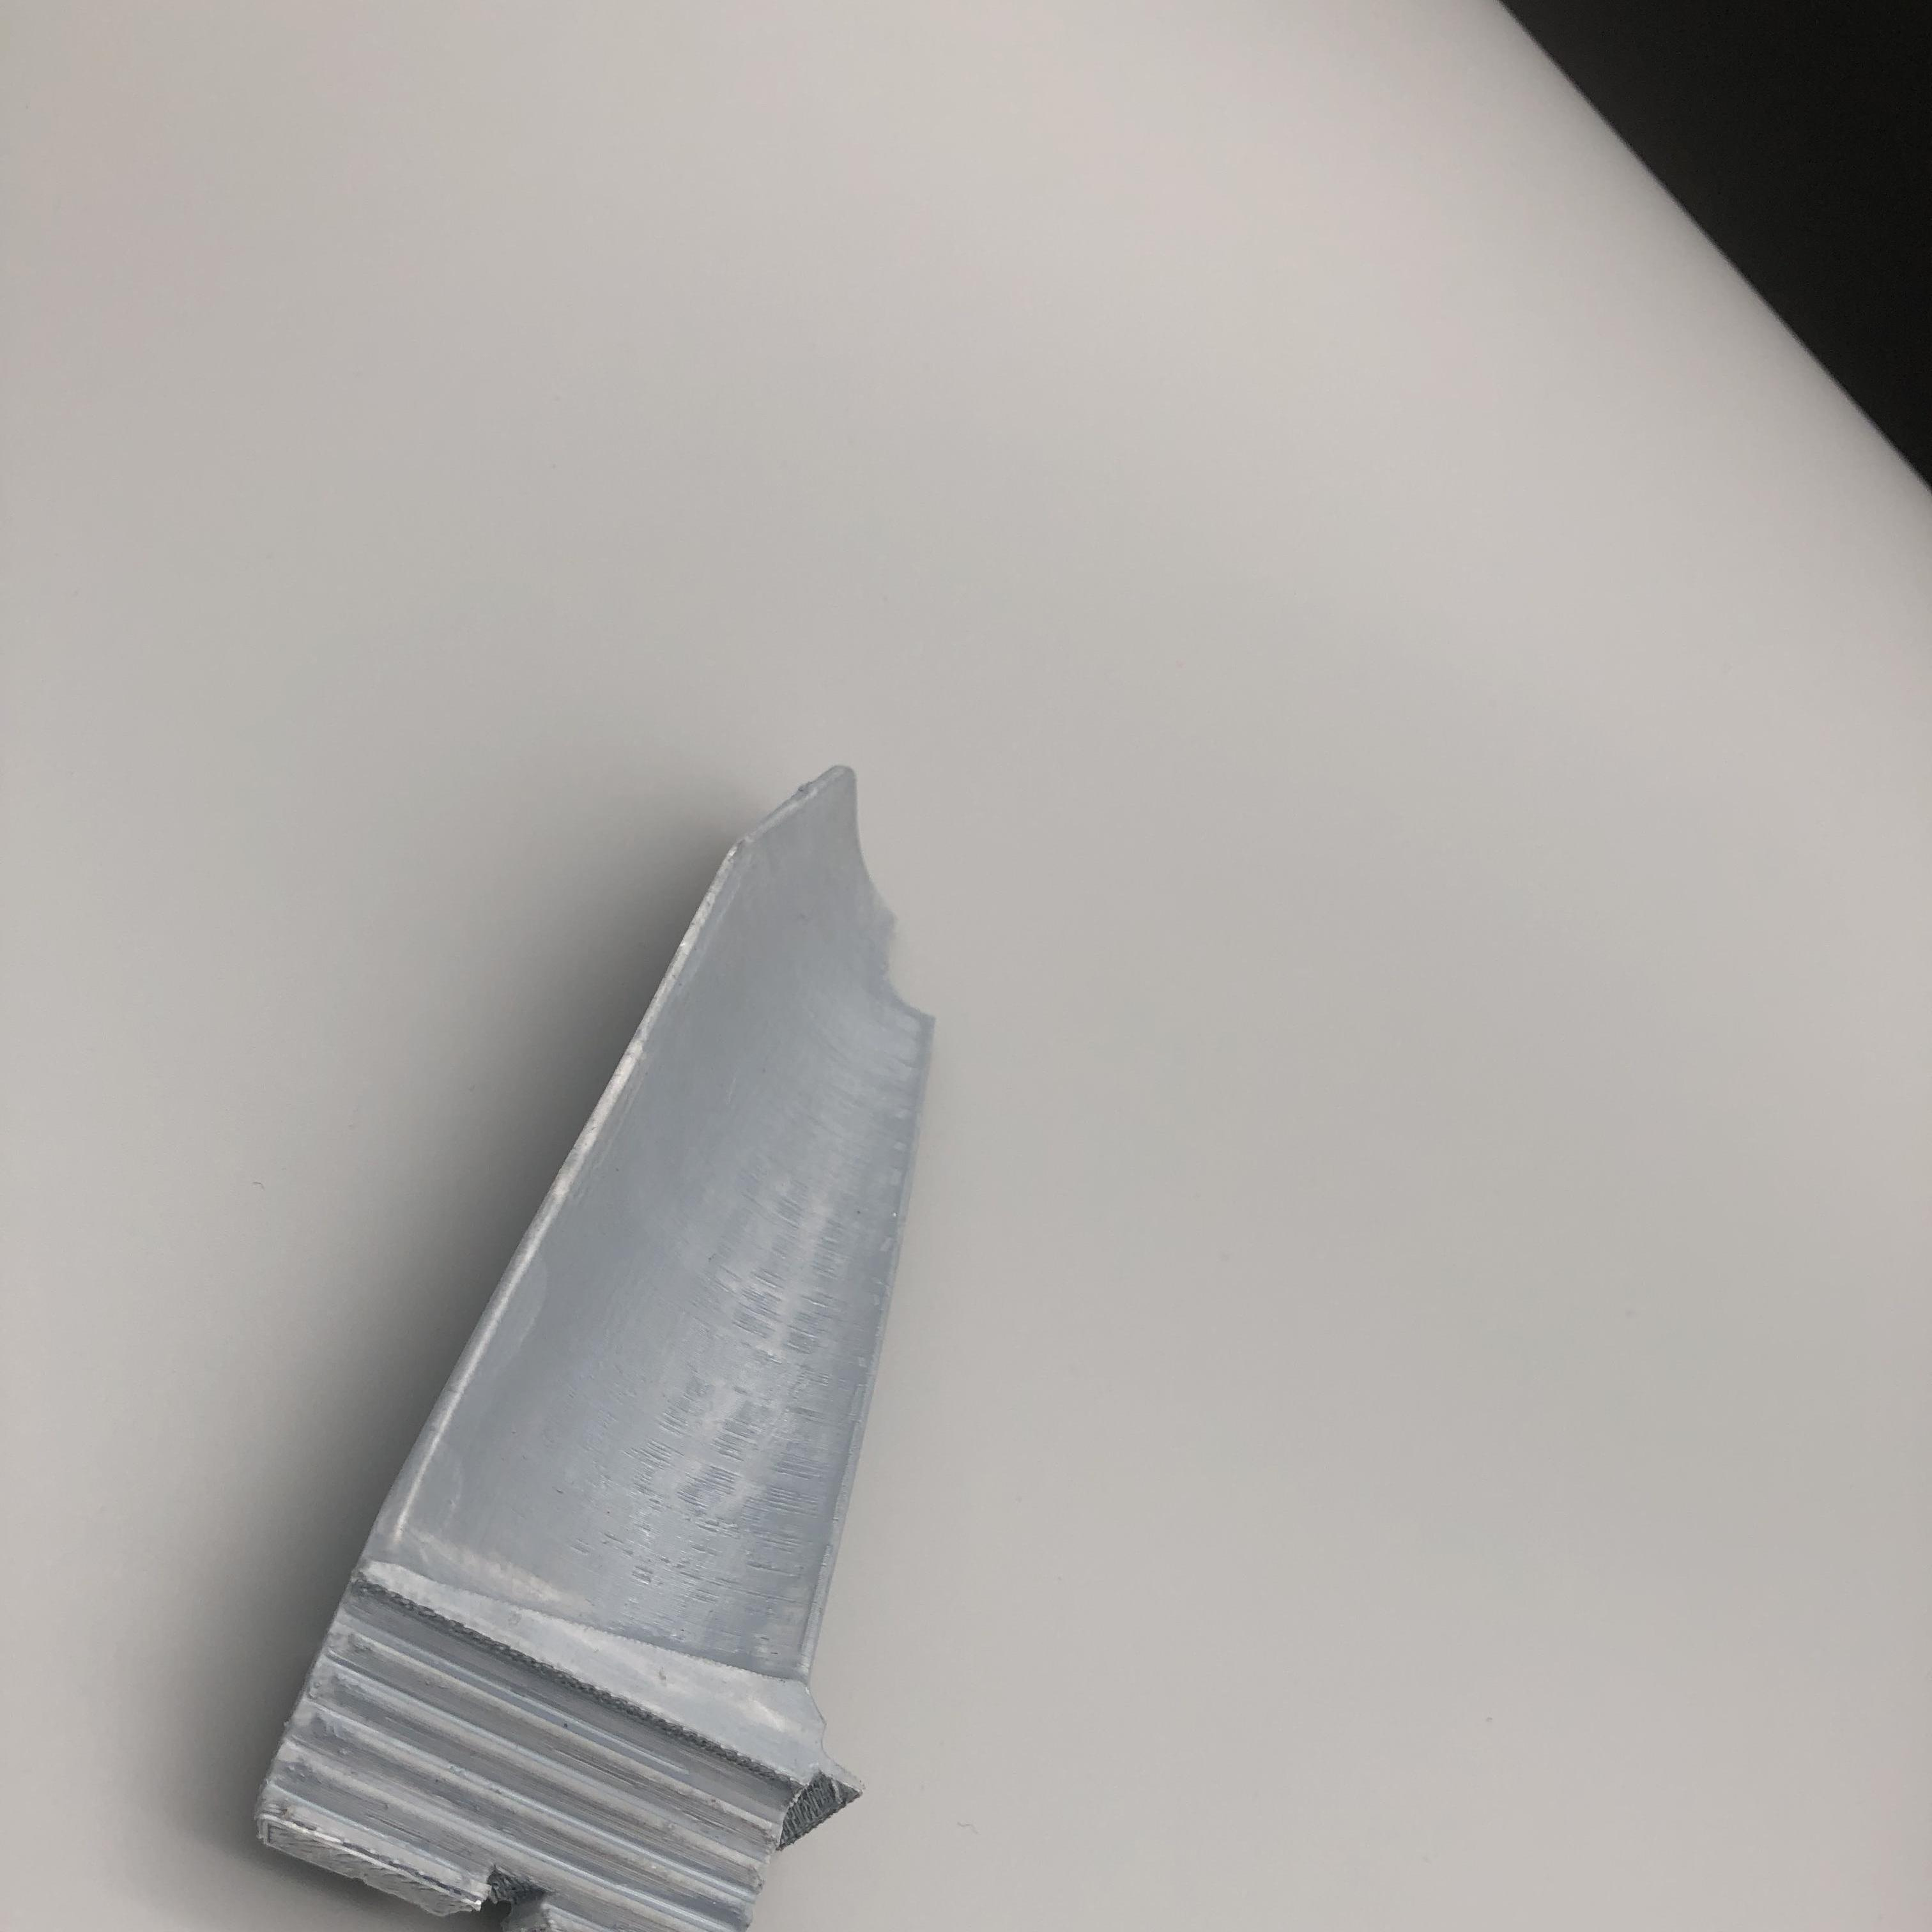fracture: (824, 794, 948, 1030)
